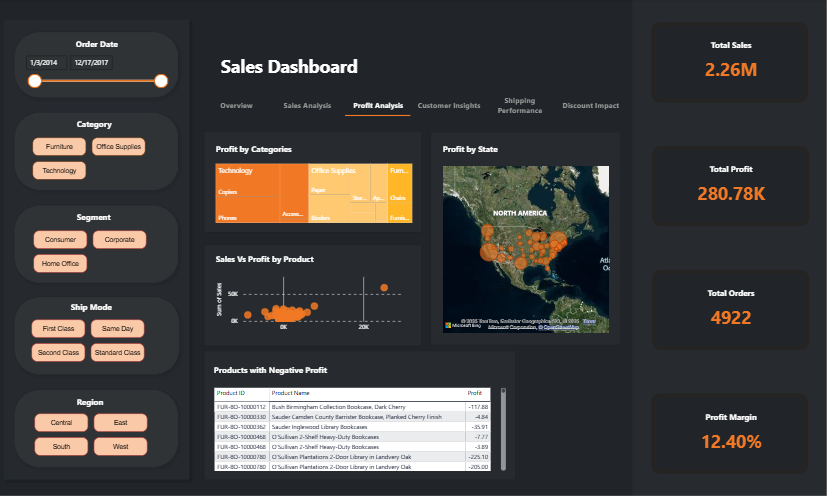

What the dashboard file says about the page in this screenshot:
{"tool":"powerbi","page":{"name":"Profit Analysis","canvas":[1500,900],"ordinal":2},"visuals":[{"type":"textbox","box":[396,94,272,68],"z":0},{"type":"slicer","fields":{"Values":["DimOrder.Order Date"]},"box":[35.6,91.6,280,78.9],"z":1000},{"type":"ChicletSlicer1448559807354","fields":{"Category":["DimCategory.Category"]},"box":[51.5,240.2,244,102],"z":2000},{"type":"textbox","box":[133.3,64.9,206.7,35.6],"z":3000},{"type":"textbox","box":[135.5,210.2,208,36],"z":4000},{"type":"ChicletSlicer1448559807354","fields":{"Category":["DimSegment.Segment"]},"box":[51.8,408.2,244.4,102.2],"z":5000},{"type":"textbox","box":[136.2,378.2,207.8,35.6],"z":6000},{"type":"ChicletSlicer1448559807354","fields":{"Category":["DimShipping.Ship Mode"]},"box":[49.1,569.8,244.4,102.2],"z":7000},{"type":"textbox","box":[124.2,539.6,208,36],"z":8000},{"type":"ChicletSlicer1448559807354","fields":{"Category":["DimRegion.Region"]},"box":[54,740,244,102],"z":9000},{"type":"textbox","box":[136,712,208,36],"z":10000},{"type":"card","title":"Total Sales","fields":{"Values":["Sum(FactSales.Sales)"]},"box":[1218,72,210,88],"z":11000},{"type":"card","title":"Total Profit","fields":{"Values":["Sum(FactSales.Profit)"]},"box":[1218,296,210,88],"z":12000},{"type":"card","title":"Total Orders","fields":{"Values":["Count(FactSales.Order ID)"]},"box":[1218,520,210,88],"z":13000},{"type":"card","title":"Profit Margin","fields":{"Values":["FactSales.Profit Margin %"]},"box":[1218,744,210,88],"z":14000},{"type":"pageNavigator","box":[370,166,758,50],"z":15000},{"type":"shape","box":[626,182,118,56],"z":16000},{"type":"treemap","fields":{"Group":["DimCategory.Category"],"Details":["DimSubCategory.Sub-Category"],"Values":["Sum(FactSales.Profit)"]},"box":[386.7,293.3,365,116.7],"z":17000},{"type":"textbox","box":[387.3,255.7,280,38],"z":18000},{"type":"textbox","box":[383.3,653.3,280,36.7],"z":19000},{"type":"tableEx","fields":{"Values":["DimProduct.Product ID","DimProduct.Product Name","FactSales.Profit"]},"box":[384,698,538,160],"z":20000},{"type":"textbox","box":[386.7,453.3,280,38.3],"z":21000},{"type":"textbox","box":[796.7,255,280,38.3],"z":22000},{"type":"scatterChart","fields":{"X":["Sum(FactSales.Profit)"],"Y":["Sum(FactSales.Sales)"],"Category":["DimProduct.Product Name"]},"box":[387.8,490,356.7,121.1],"z":23000},{"type":"map","fields":{"Category":["DimState.State"],"Size":["Sum(FactSales.Profit)"]},"box":[797.1,295.7,311.4,312.9],"z":24000}]}

Visuals, with their boxes in screenshot pixels (x1, y1, x2, y2), scaled from the page's 1500x900 canvas onto the 827x497 screenshot:
textbox: pyautogui.locateOnScreen(218, 52, 368, 89)
slicer - DimOrder.Order Date: pyautogui.locateOnScreen(20, 51, 174, 94)
ChicletSlicer1448559807354 - DimCategory.Category: pyautogui.locateOnScreen(28, 133, 163, 189)
textbox: pyautogui.locateOnScreen(73, 36, 187, 55)
textbox: pyautogui.locateOnScreen(75, 116, 189, 136)
ChicletSlicer1448559807354 - DimSegment.Segment: pyautogui.locateOnScreen(29, 225, 163, 282)
textbox: pyautogui.locateOnScreen(75, 209, 190, 229)
ChicletSlicer1448559807354 - DimShipping.Ship Mode: pyautogui.locateOnScreen(27, 315, 162, 371)
textbox: pyautogui.locateOnScreen(68, 298, 183, 318)
ChicletSlicer1448559807354 - DimRegion.Region: pyautogui.locateOnScreen(30, 409, 164, 465)
textbox: pyautogui.locateOnScreen(75, 393, 190, 413)
"Total Sales" card: pyautogui.locateOnScreen(672, 40, 787, 88)
"Total Profit" card: pyautogui.locateOnScreen(672, 163, 787, 212)
"Total Orders" card: pyautogui.locateOnScreen(672, 287, 787, 336)
"Profit Margin" card: pyautogui.locateOnScreen(672, 411, 787, 459)
pageNavigator: pyautogui.locateOnScreen(204, 92, 622, 119)
shape: pyautogui.locateOnScreen(345, 101, 410, 131)
treemap - DimCategory.Category x DimSubCategory.Sub-Category: pyautogui.locateOnScreen(213, 162, 414, 226)
textbox: pyautogui.locateOnScreen(214, 141, 368, 162)
textbox: pyautogui.locateOnScreen(211, 361, 366, 381)
tableEx - DimProduct.Product ID x DimProduct.Product Name: pyautogui.locateOnScreen(212, 385, 508, 474)
textbox: pyautogui.locateOnScreen(213, 250, 368, 271)
textbox: pyautogui.locateOnScreen(439, 141, 594, 162)
scatterChart - Sum(FactSales.Profit) x Sum(FactSales.Sales): pyautogui.locateOnScreen(214, 271, 410, 337)
map - DimState.State x Sum(FactSales.Profit): pyautogui.locateOnScreen(439, 163, 611, 336)
